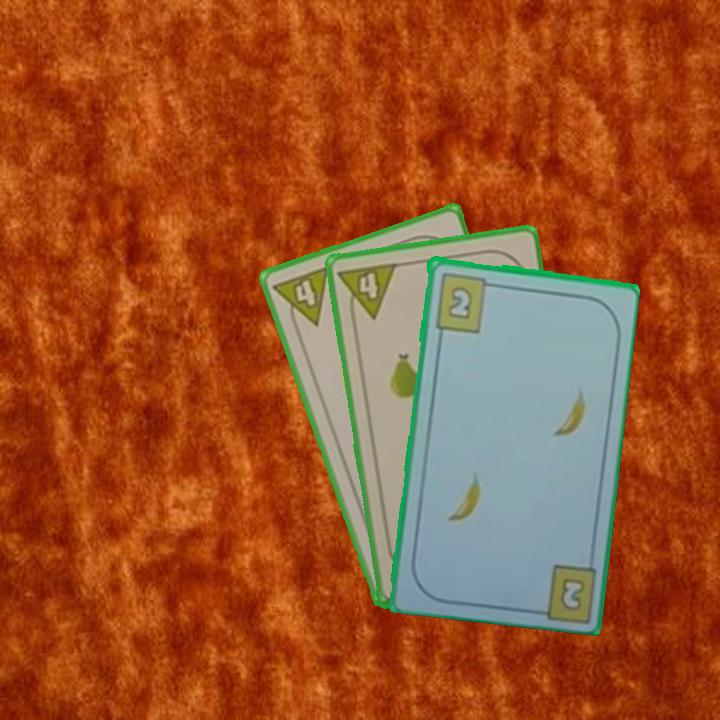2b: (431, 269, 498, 334), (556, 574, 587, 614)
4p: (269, 262, 332, 335), (334, 259, 399, 325)
